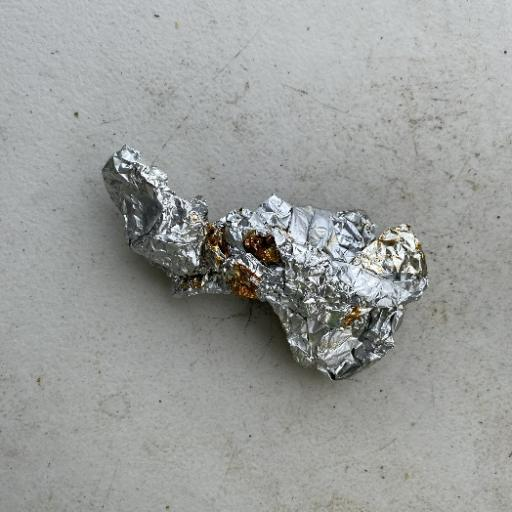Metal: (99, 142, 430, 383)
